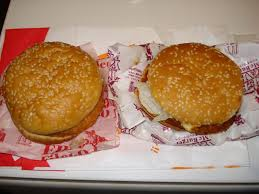hamburger: (3, 39, 108, 149), (140, 40, 244, 133)
